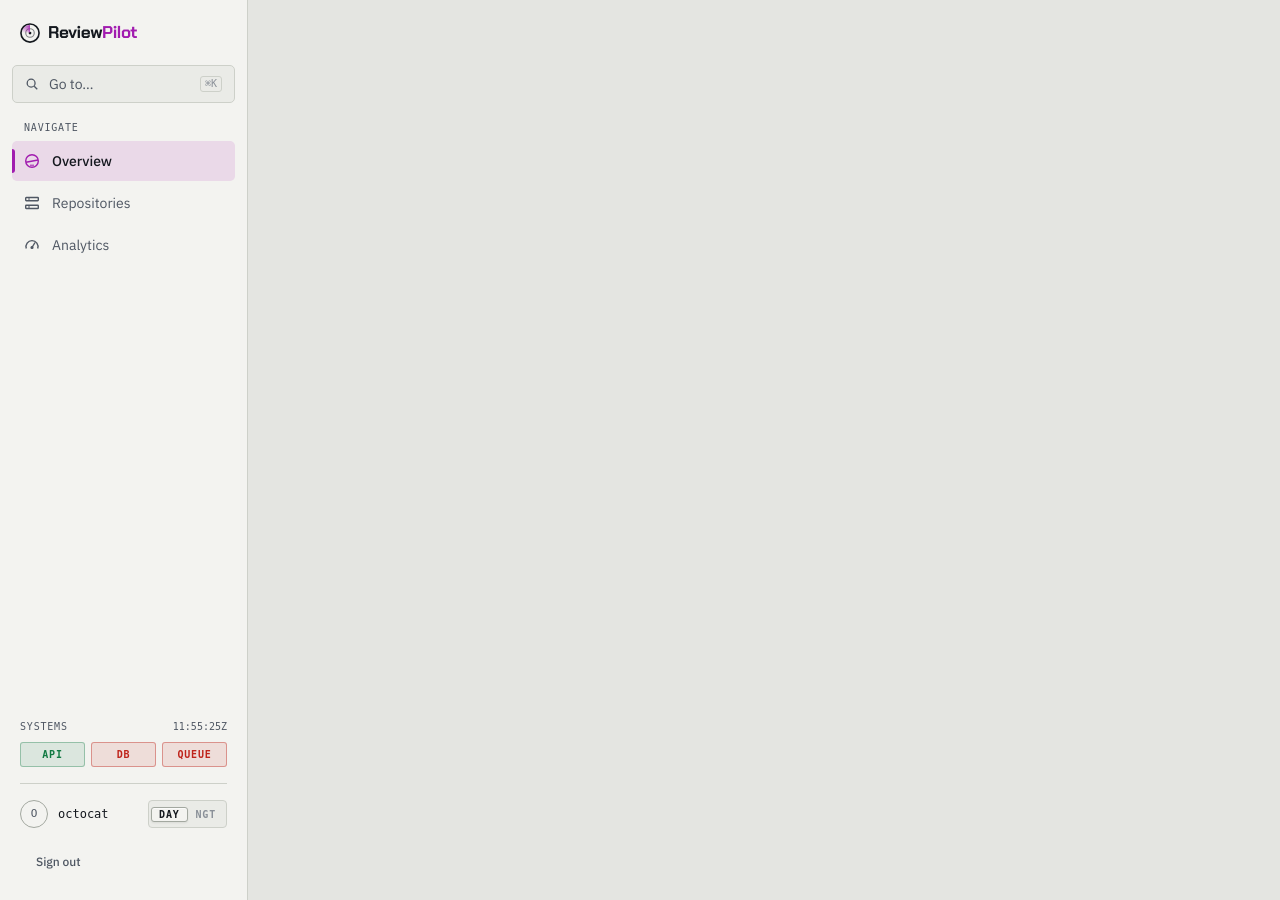
Test: command palette › opens with Ctrl+K, filters as you type, and goes to the chosen repository
Check: the text "octocat" is shown, box [58,807,109,821]
Step 1. Type keys "{Control>}k{/Control}"
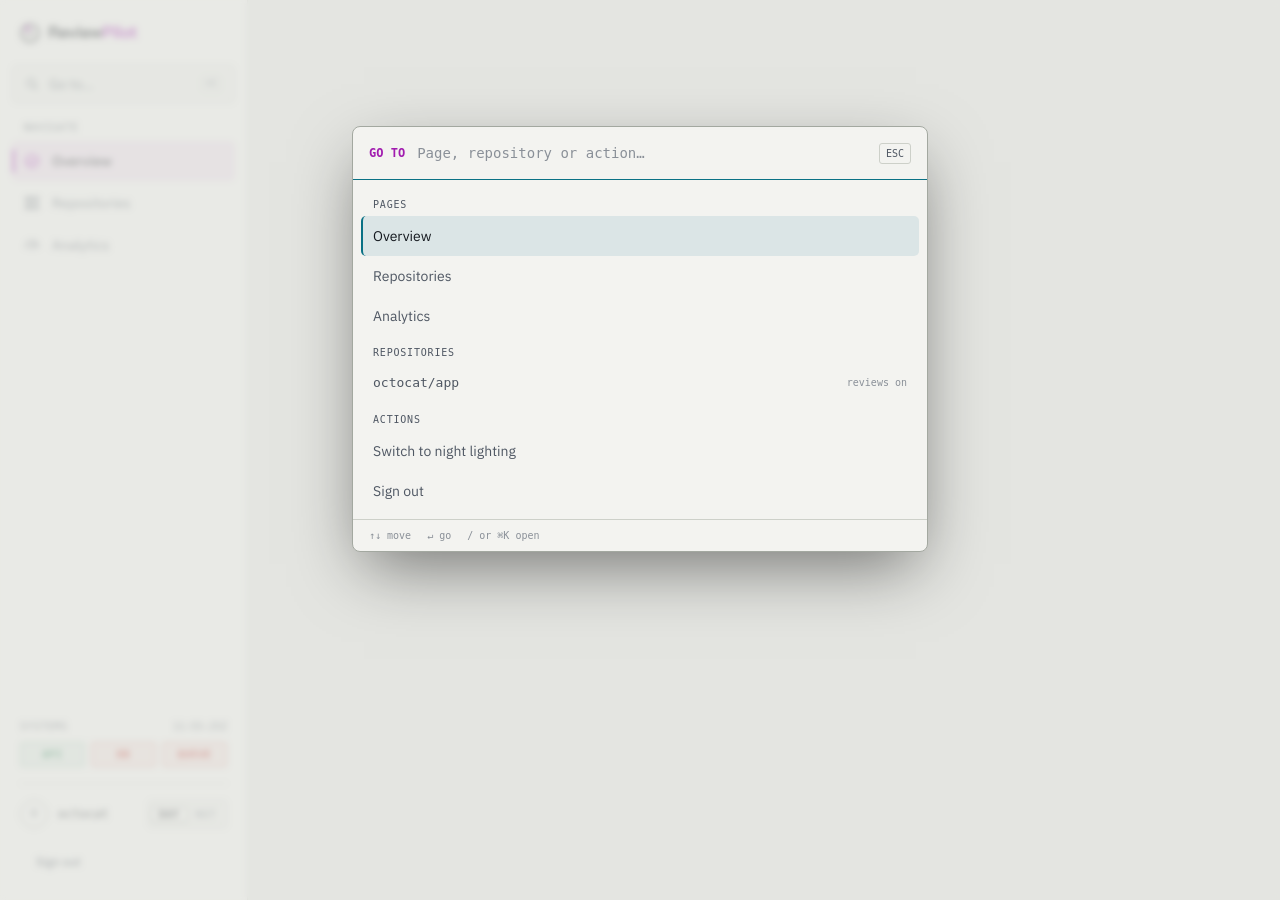
Step 2. Type "octo" into the dropdown named "search pages, repositories" → (642, 153), box [417,127,867,179]
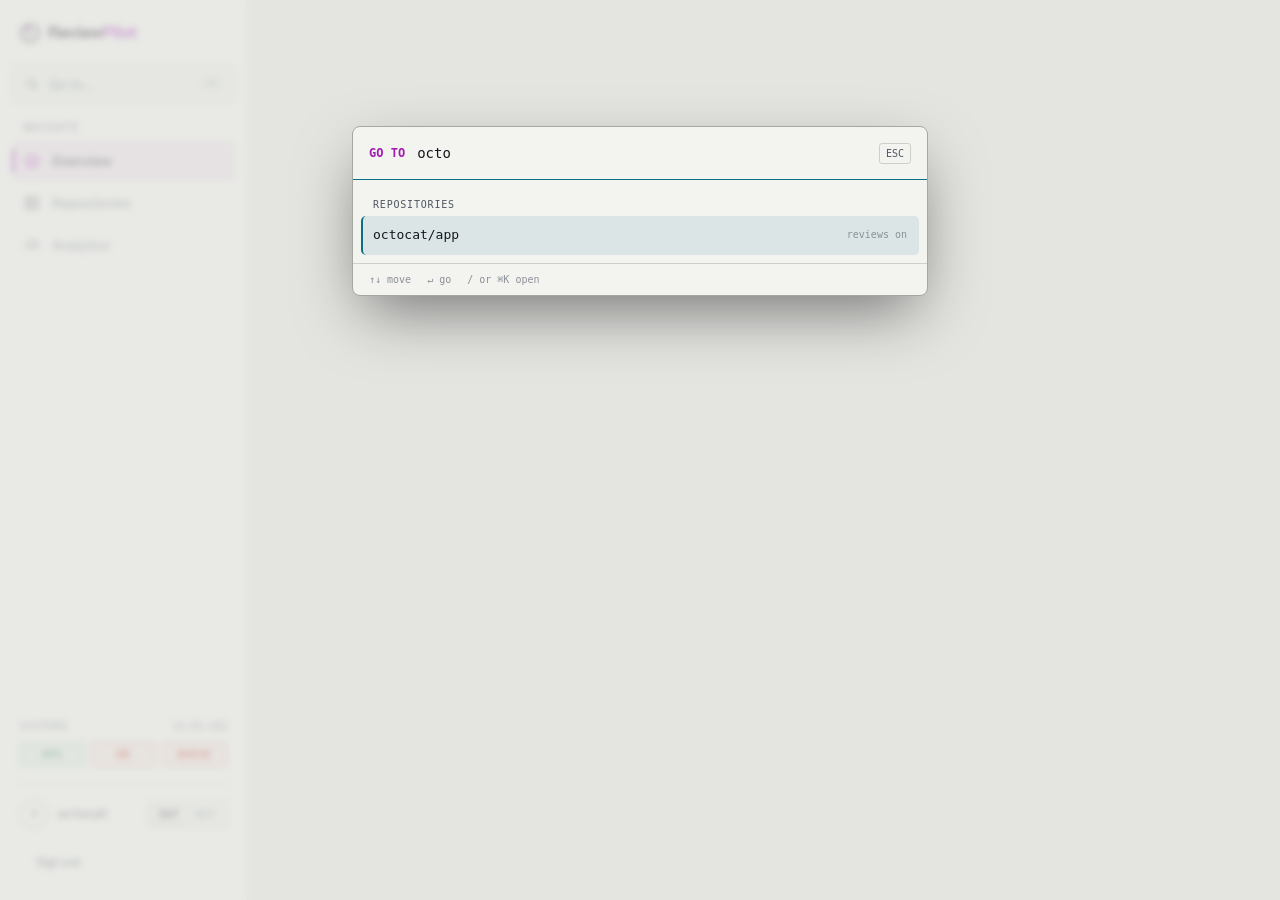
Check: the option with aria-label "octocat/app, reviews on" is selected, box [361,216,919,255]
Step 3. Press Enter
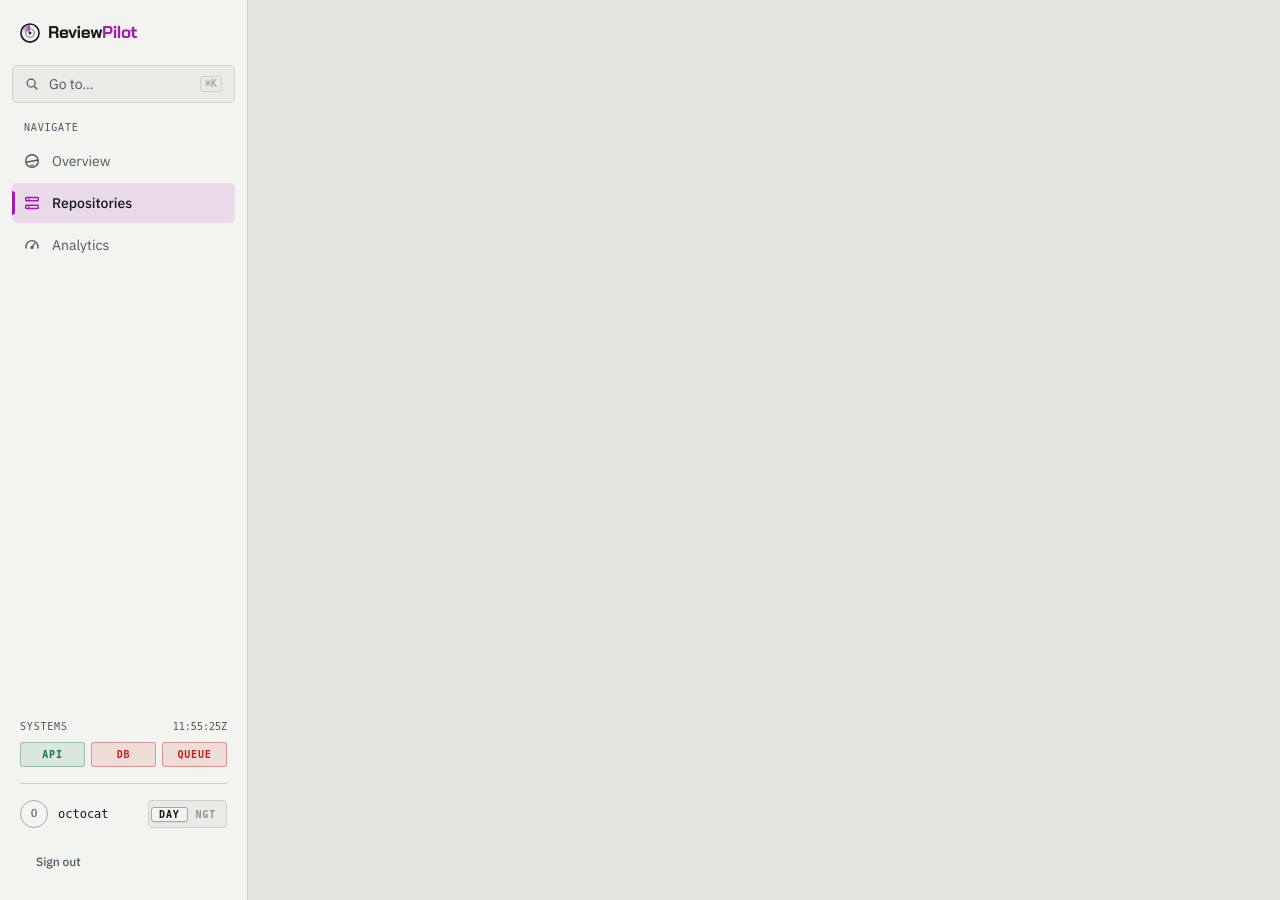
Check: the dialog is gone
